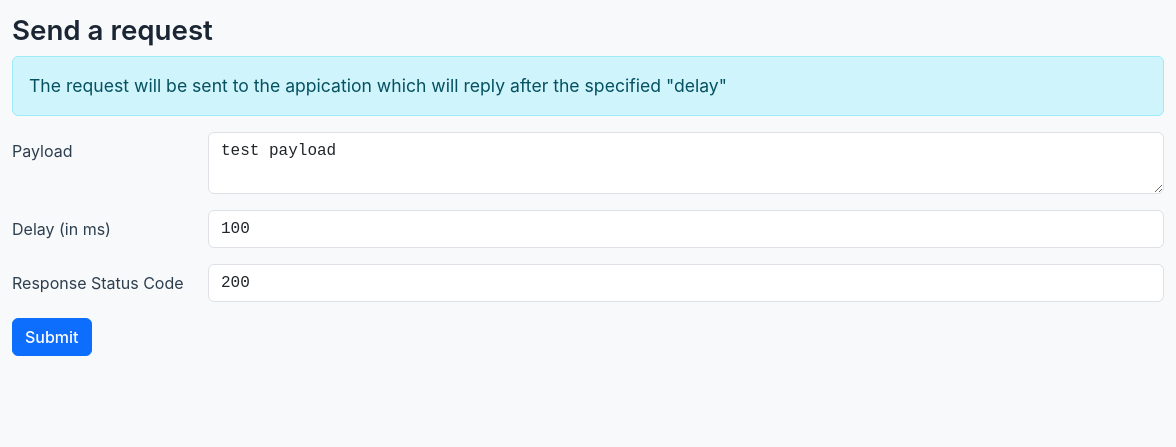
Scenario: MainForm › validates delay input
Replace the text in the number field labelled "Delay (in ms)" with "-1": [686, 229] box [208, 210, 1164, 248]
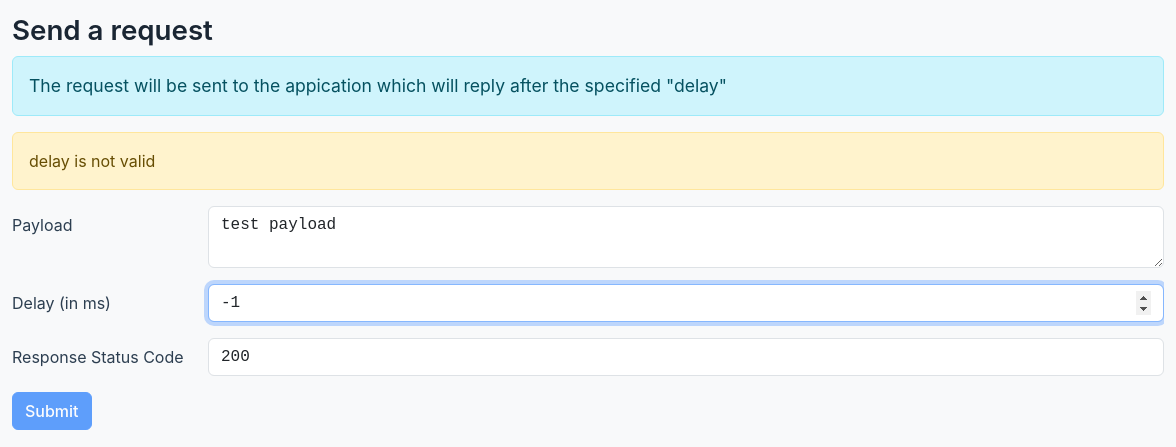
expect the text "delay is not valid" is shown: met, box [12, 132, 1164, 190]
expect the button "Submit" is disabled: met, box [12, 392, 92, 430]
